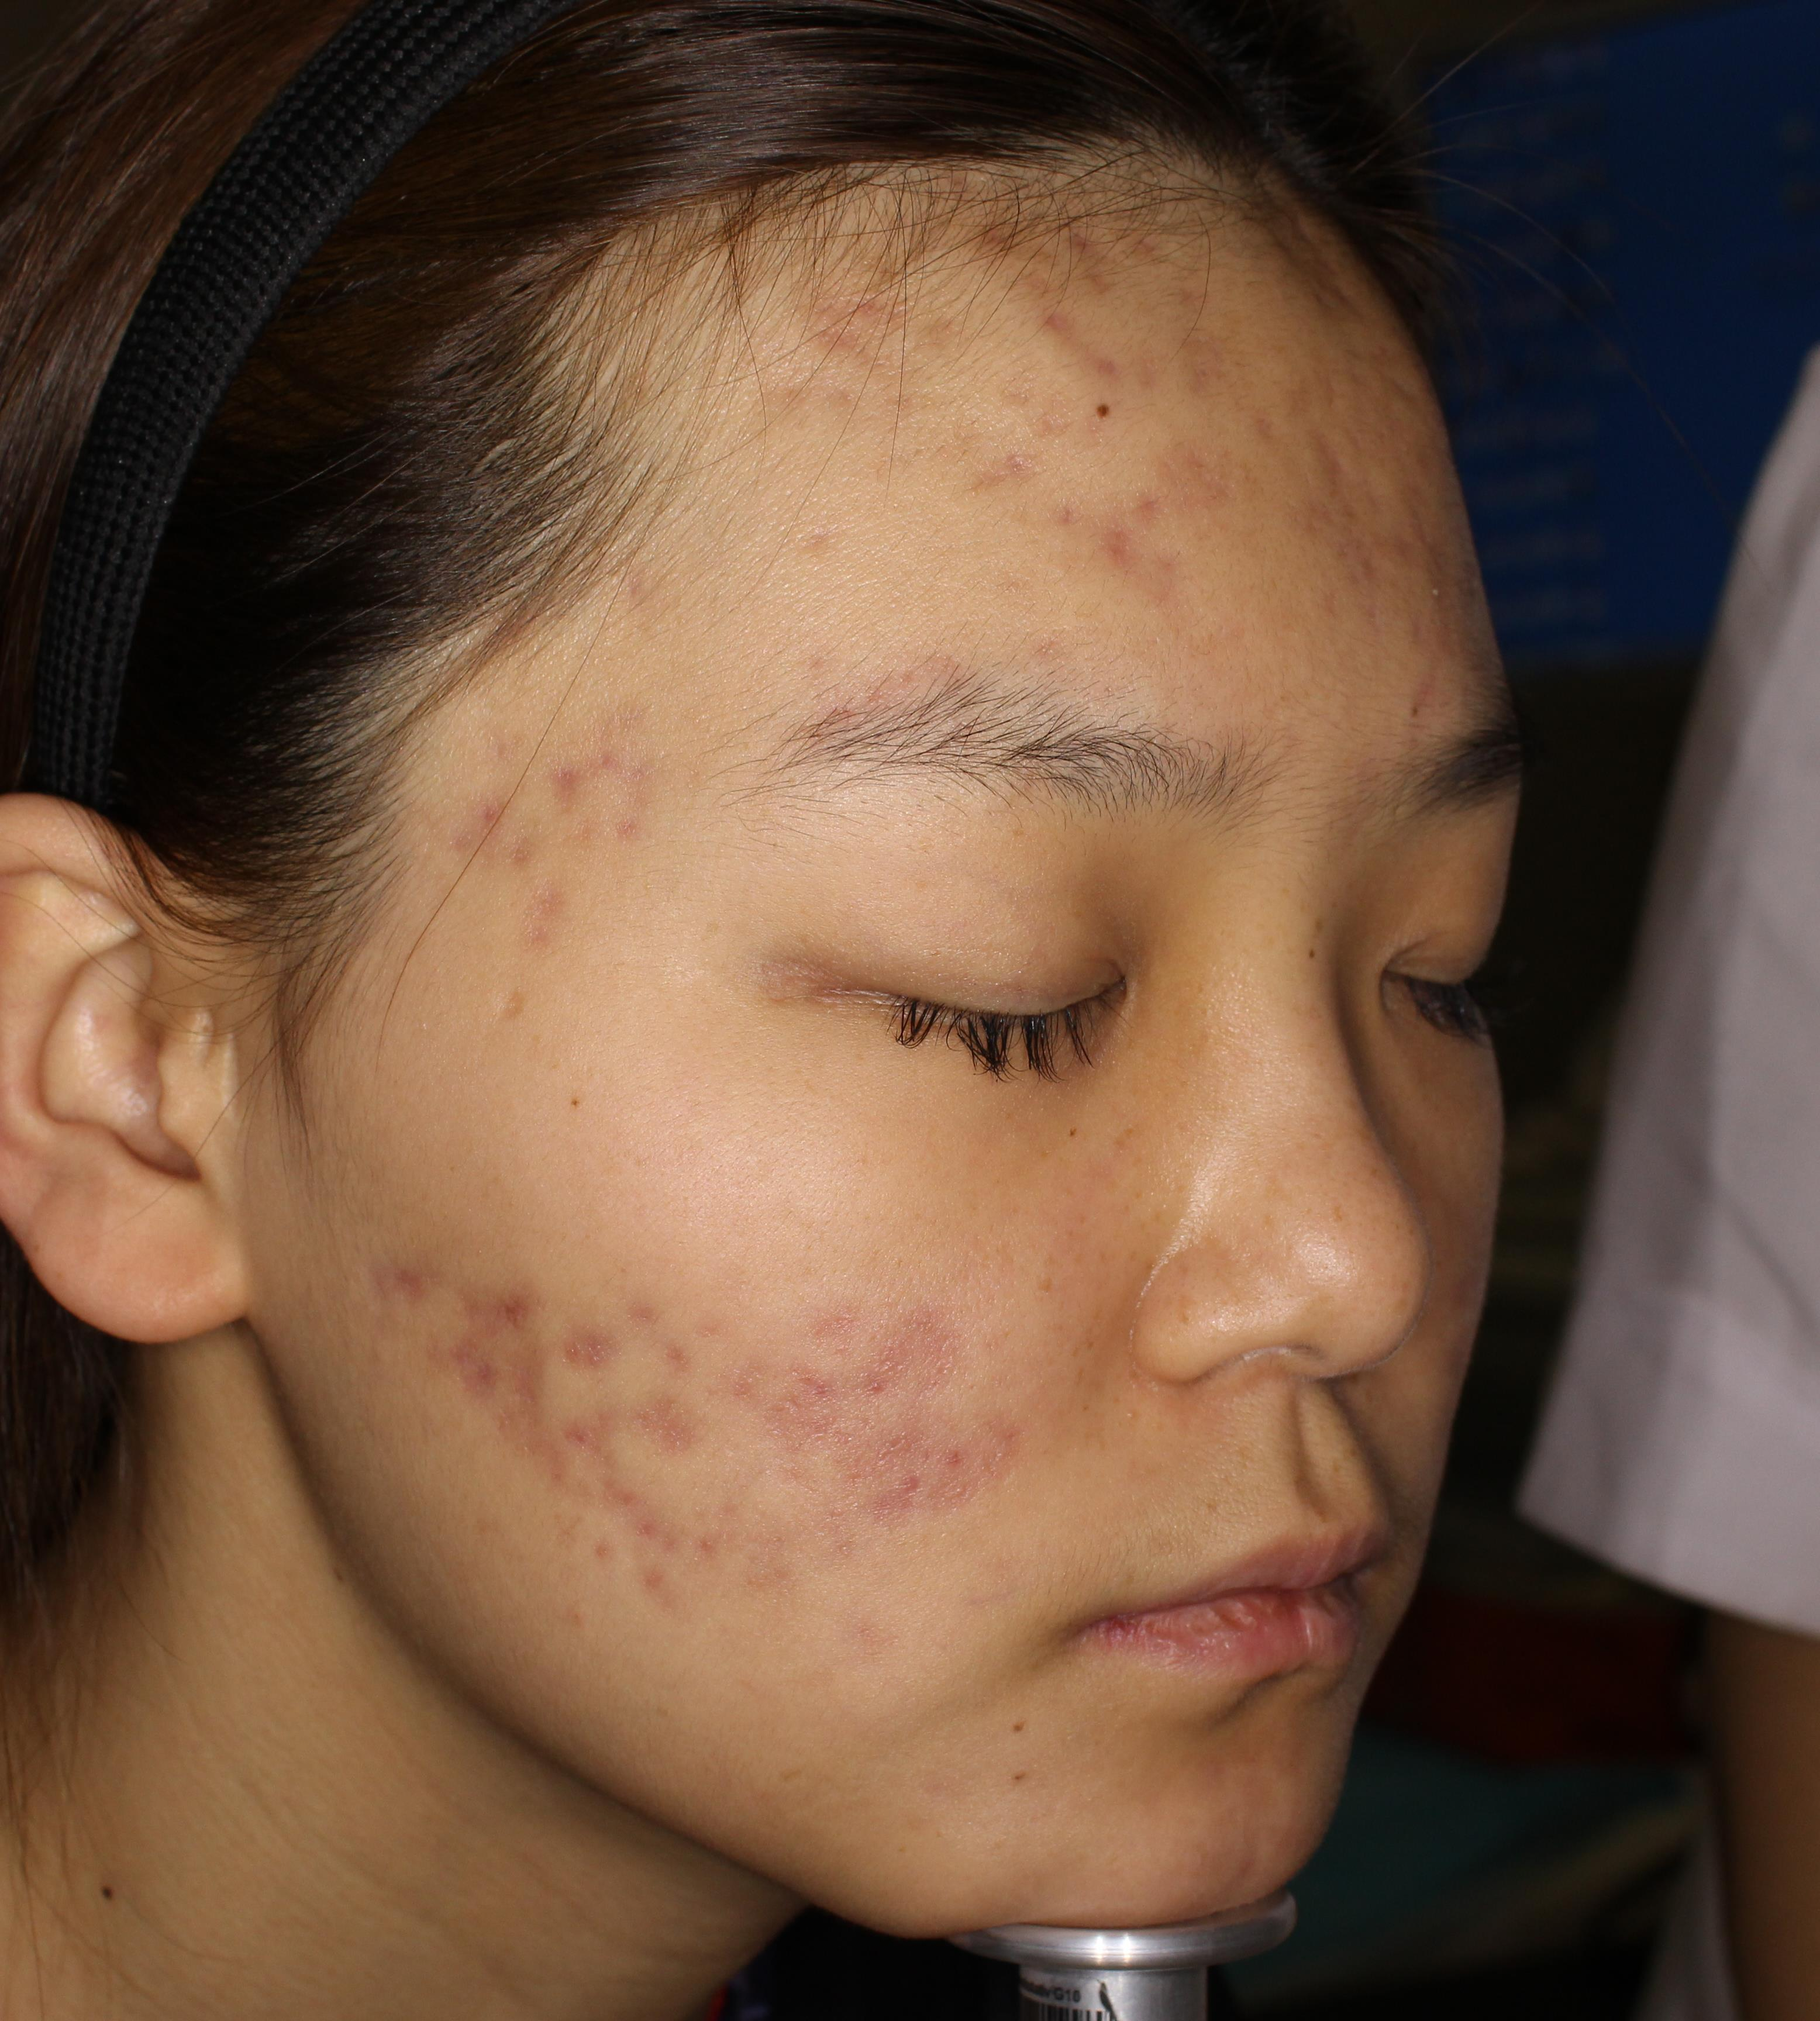fore: (502, 855, 603, 985), (921, 414, 1036, 506), (1094, 483, 1189, 590), (1288, 393, 1369, 506), (1031, 205, 1123, 304), (490, 1334, 589, 1419), (392, 783, 499, 859), (740, 1347, 829, 1436), (1014, 313, 1117, 388), (861, 258, 947, 344), (422, 1347, 516, 1424), (539, 757, 632, 832), (964, 197, 1051, 277), (840, 1320, 906, 1424), (852, 1442, 929, 1528), (933, 1433, 1014, 1514), (471, 818, 562, 881), (552, 1306, 629, 1378), (646, 1303, 727, 1366), (1390, 644, 1444, 734), (624, 1563, 687, 1629), (476, 1277, 534, 1334), (1042, 474, 1091, 541), (580, 1450, 638, 1505), (372, 1257, 427, 1312), (812, 295, 857, 353), (629, 1487, 682, 1536), (548, 1424, 603, 1468), (638, 1384, 682, 1433)
